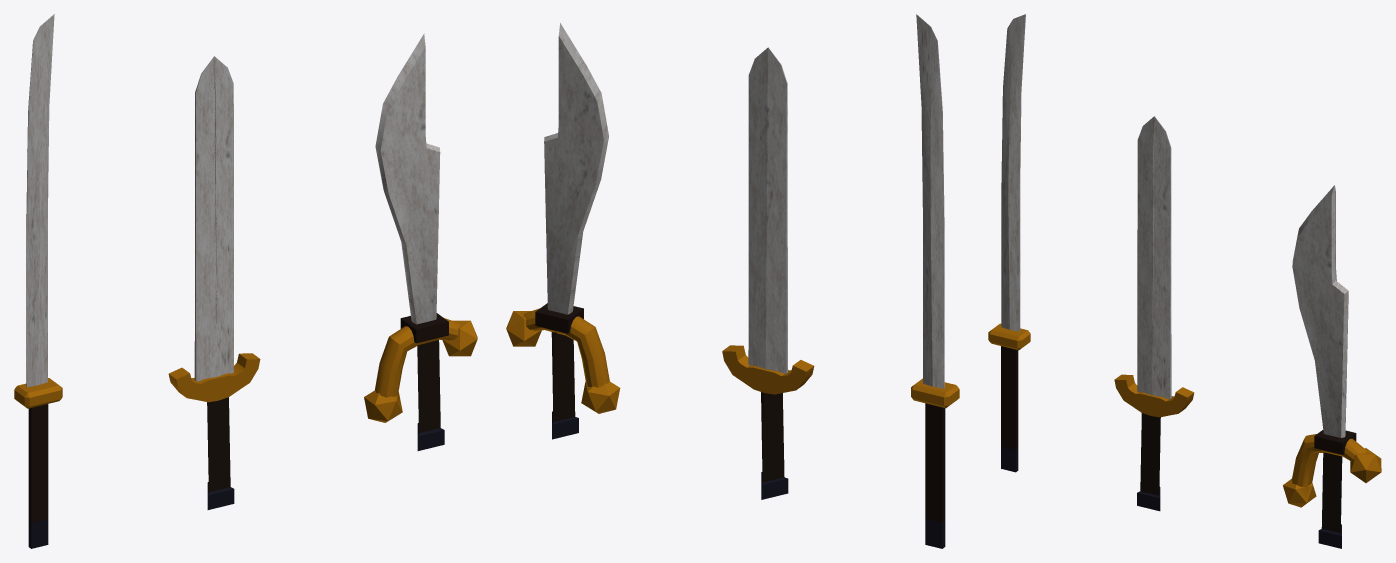
The model's file is swords.fbx.
The picture shows the model from 3 angles, left to right: view 1: azimuth 30°, elevation 25°; view 2: azimuth 150°, elevation 25°; view 3: azimuth 330°, elevation 25°; orthographic projection. The views are drawn at different scales.
Visible parts, largest first — view 1: Cylinder.013, Plane.002, Plane.006; view 2: Cylinder.013, Plane.002, Plane.006; view 3: Cylinder.013, Plane.002, Plane.006.
Boxes of the visible parts, bbox=[...] form: Cylinder.013: bbox=[364, 33, 477, 450]; Plane.002: bbox=[168, 56, 260, 509]; Plane.006: bbox=[14, 14, 62, 548]; Cylinder.013: bbox=[506, 23, 620, 439]; Plane.002: bbox=[722, 47, 814, 499]; Plane.006: bbox=[911, 14, 959, 548]; Cylinder.013: bbox=[1283, 185, 1381, 548]; Plane.002: bbox=[1114, 116, 1194, 511]; Plane.006: bbox=[988, 14, 1030, 472].
Size of the model in its own units: 178 by 198 by 15.03.
